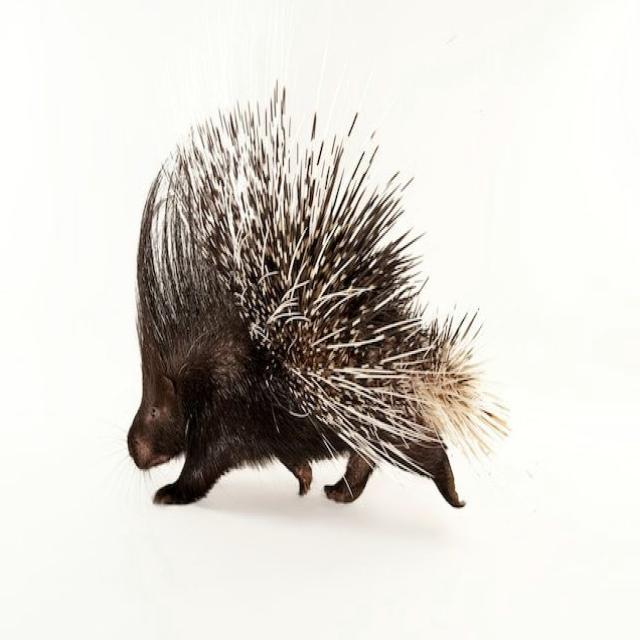porcupine: (130, 85, 507, 507)
